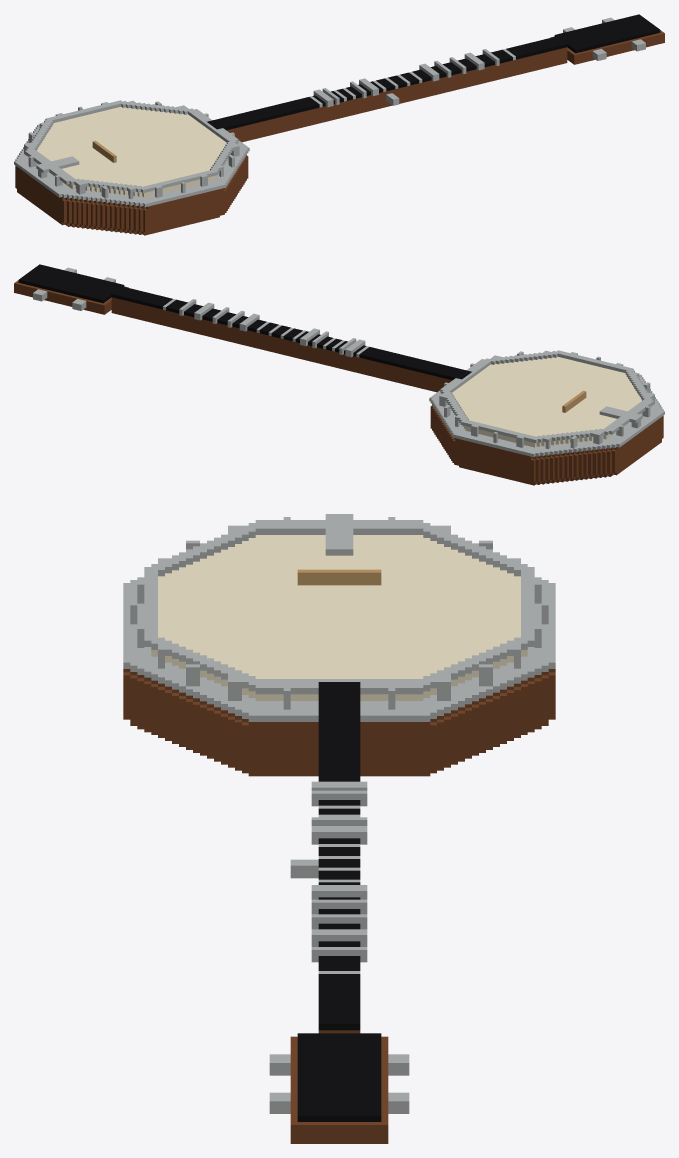
The model's file is banjo.glb.
3 renders of one model, top to bottom at view 1: azimuth 30°, elevation 25°; view 2: azimuth 150°, elevation 25°; view 3: azimuth 270°, elevation 25°, orthographic. The views are drawn at different scales.
Parts seen in each view (by area): view 1: banjo:compound; view 2: banjo:compound; view 3: banjo:compound.
Boxes of the visible parts, x1,y1,x2,y2 form: banjo:compound: (14,14,664,235); banjo:compound: (14,264,664,485); banjo:compound: (123,514,555,1143).
Size of the model in its own units: 0.816 by 0.06 by 0.248.
